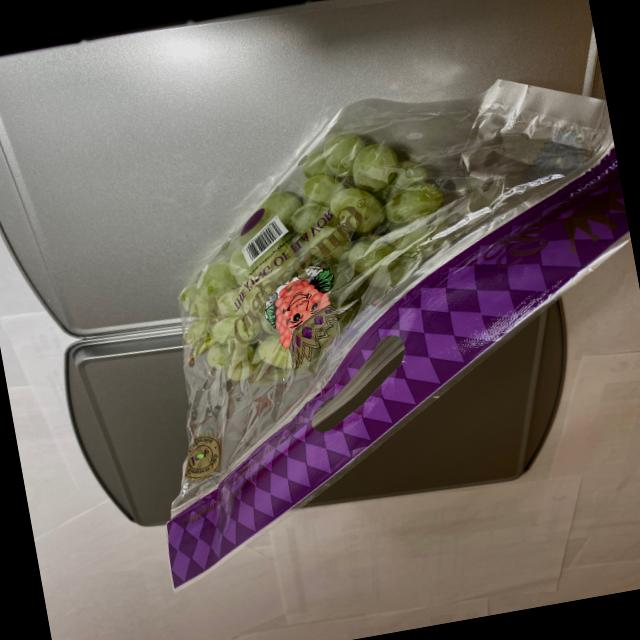grapes: (160, 109, 472, 404)
